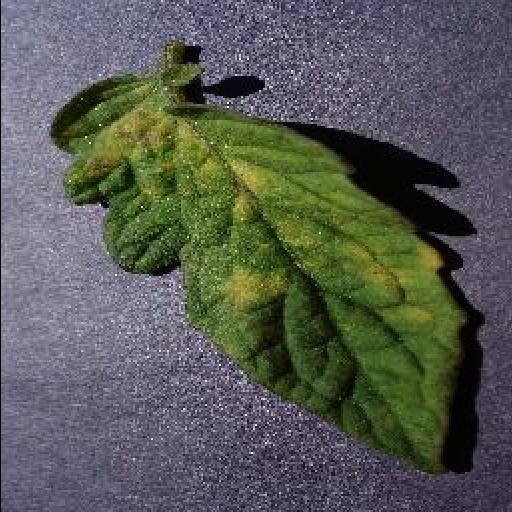disease_tomato: (50, 76, 470, 478)
